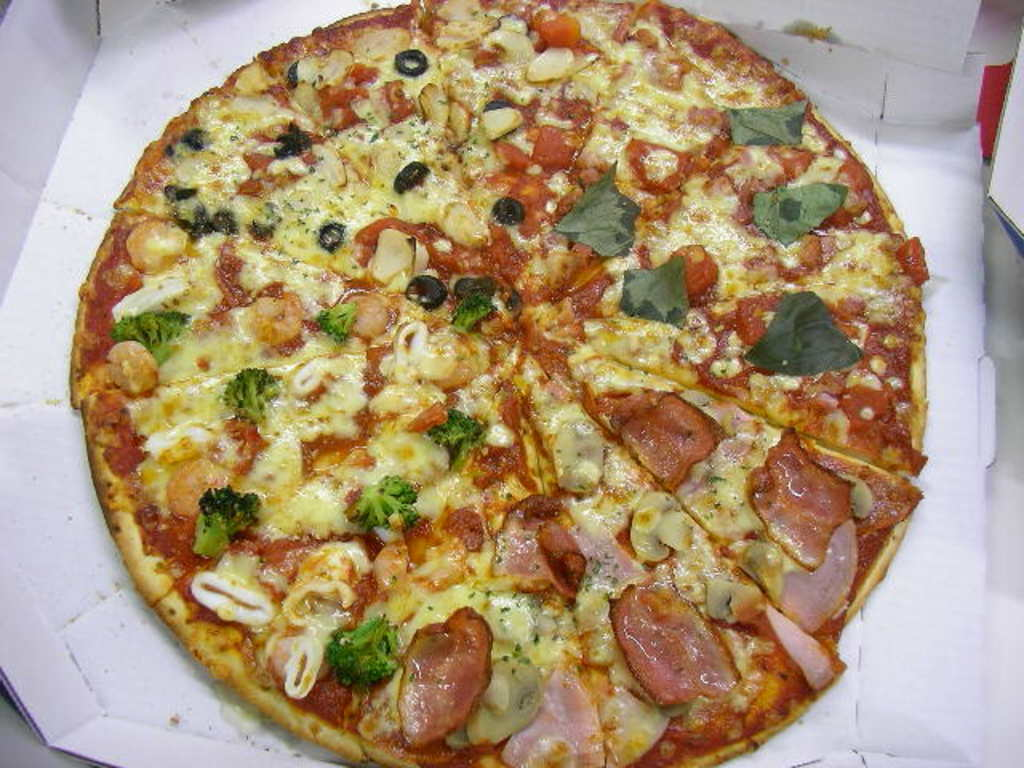Pizza: (75, 0, 942, 750)
